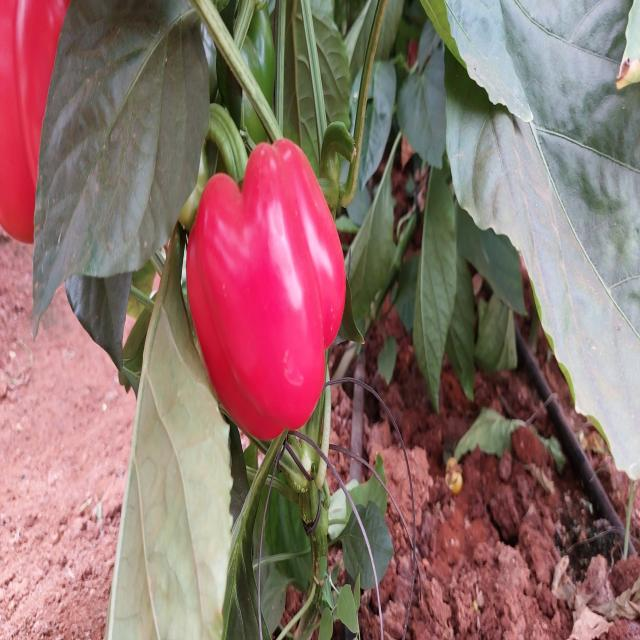Red-Ready-to-Harvest: (200, 114, 346, 438)
